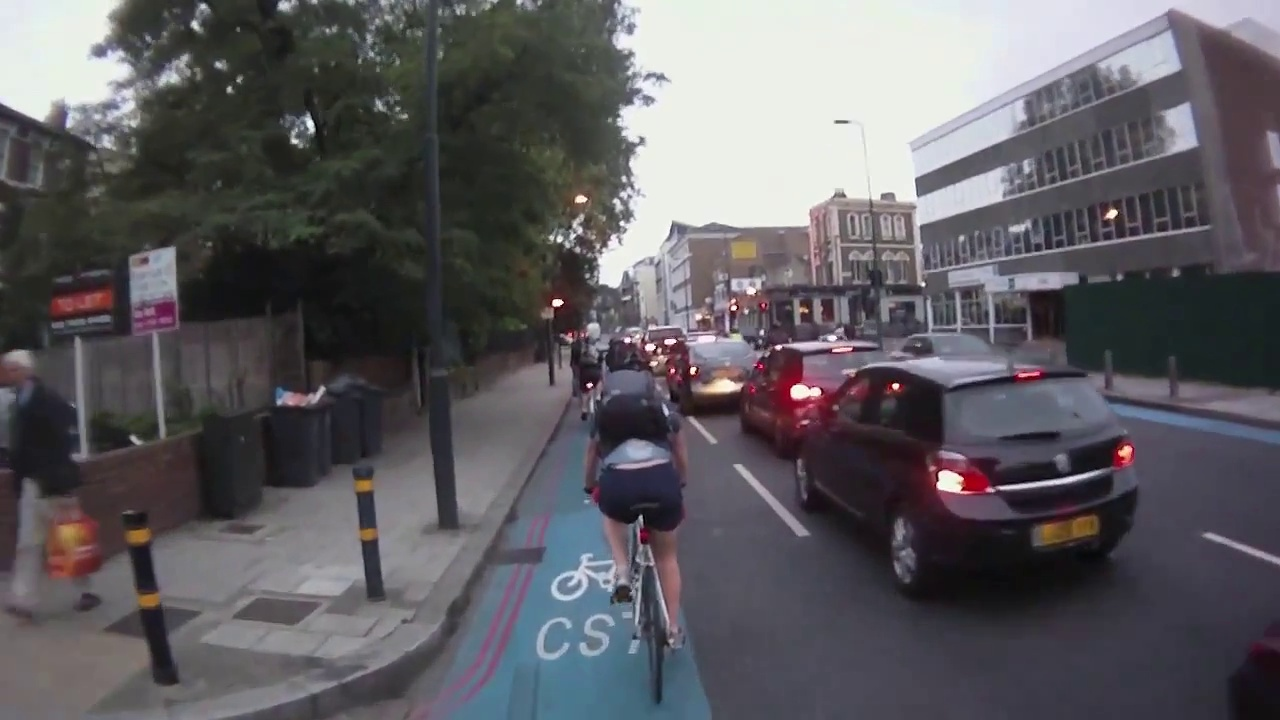cyclist_back: (584, 340, 701, 709)
